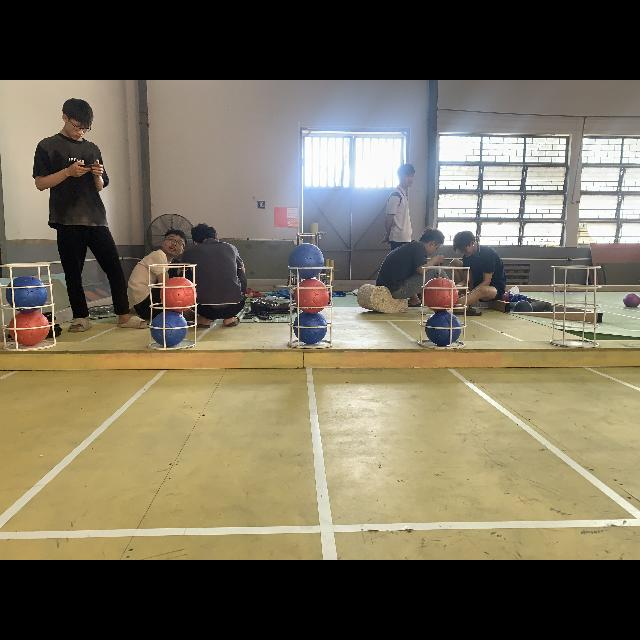B: (4, 274, 48, 312), (150, 311, 188, 347), (288, 243, 324, 279), (426, 312, 462, 346), (294, 312, 328, 344)
R: (8, 312, 50, 346), (160, 276, 198, 312), (294, 279, 330, 313), (422, 278, 458, 312)
